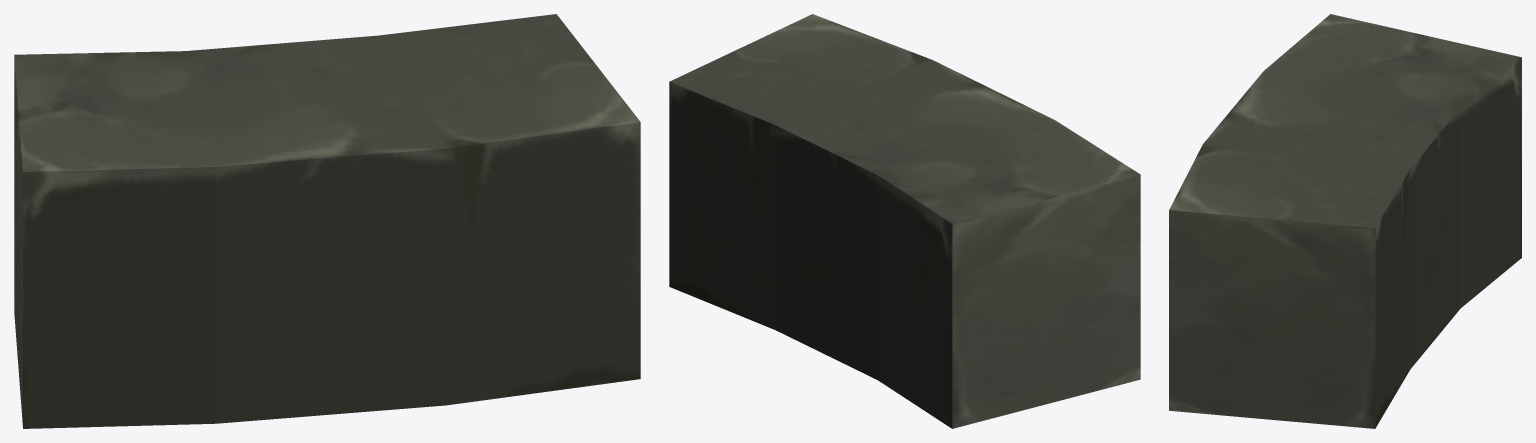
The model's file is yw_newshanlin_pingtaizhuan_002.FBX.
3 views of the same model, side by side, from view 1: azimuth 30°, elevation 25°; view 2: azimuth 150°, elevation 25°; view 3: azimuth 270°, elevation 25° (orthographic). The views are drawn at different scales.
Visible parts, largest first — view 1: yw_newshanlin_pingtaizhuan_002; view 2: yw_newshanlin_pingtaizhuan_002; view 3: yw_newshanlin_pingtaizhuan_002.
Boxes of the visible parts, x1,y1,x2,y2 form: yw_newshanlin_pingtaizhuan_002: (14,14,640,428); yw_newshanlin_pingtaizhuan_002: (669,14,1140,428); yw_newshanlin_pingtaizhuan_002: (1169,14,1521,428).
Size of the model in its own units: 21.39 by 14.87 by 9.34.
